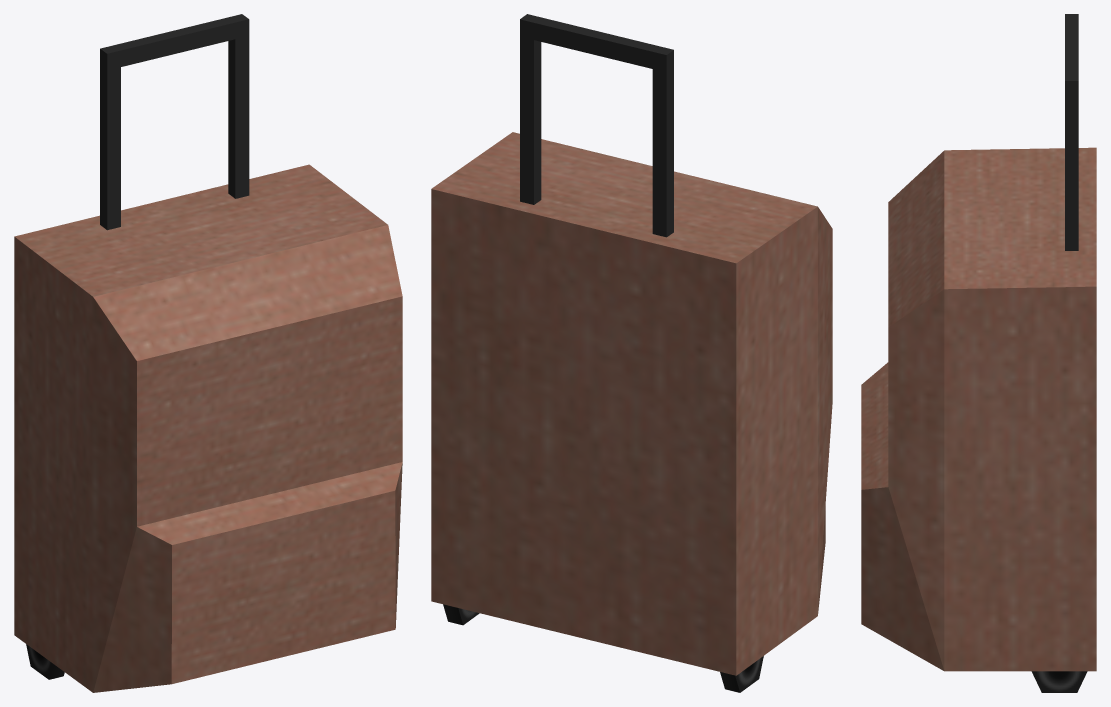
File: Luggage.fbx
3 views of the same model, side by side, from view 1: azimuth 30°, elevation 25°; view 2: azimuth 150°, elevation 25°; view 3: azimuth 270°, elevation 25° (orthographic). The views are drawn at different scales.
Parts seen in each view (by area): view 1: Maya_File_Assets:TexturedAssetsCurrent:LuggageBag; view 2: Maya_File_Assets:TexturedAssetsCurrent:LuggageBag; view 3: Maya_File_Assets:TexturedAssetsCurrent:LuggageBag.
Part boxes in pixels (x1,y1,x2,y2): Maya_File_Assets:TexturedAssetsCurrent:LuggageBag: (14,14,402,692); Maya_File_Assets:TexturedAssetsCurrent:LuggageBag: (431,14,832,692); Maya_File_Assets:TexturedAssetsCurrent:LuggageBag: (861,14,1096,692).
Bounding box in the file's own units: 0.5414 × 1.05 × 0.3872.
